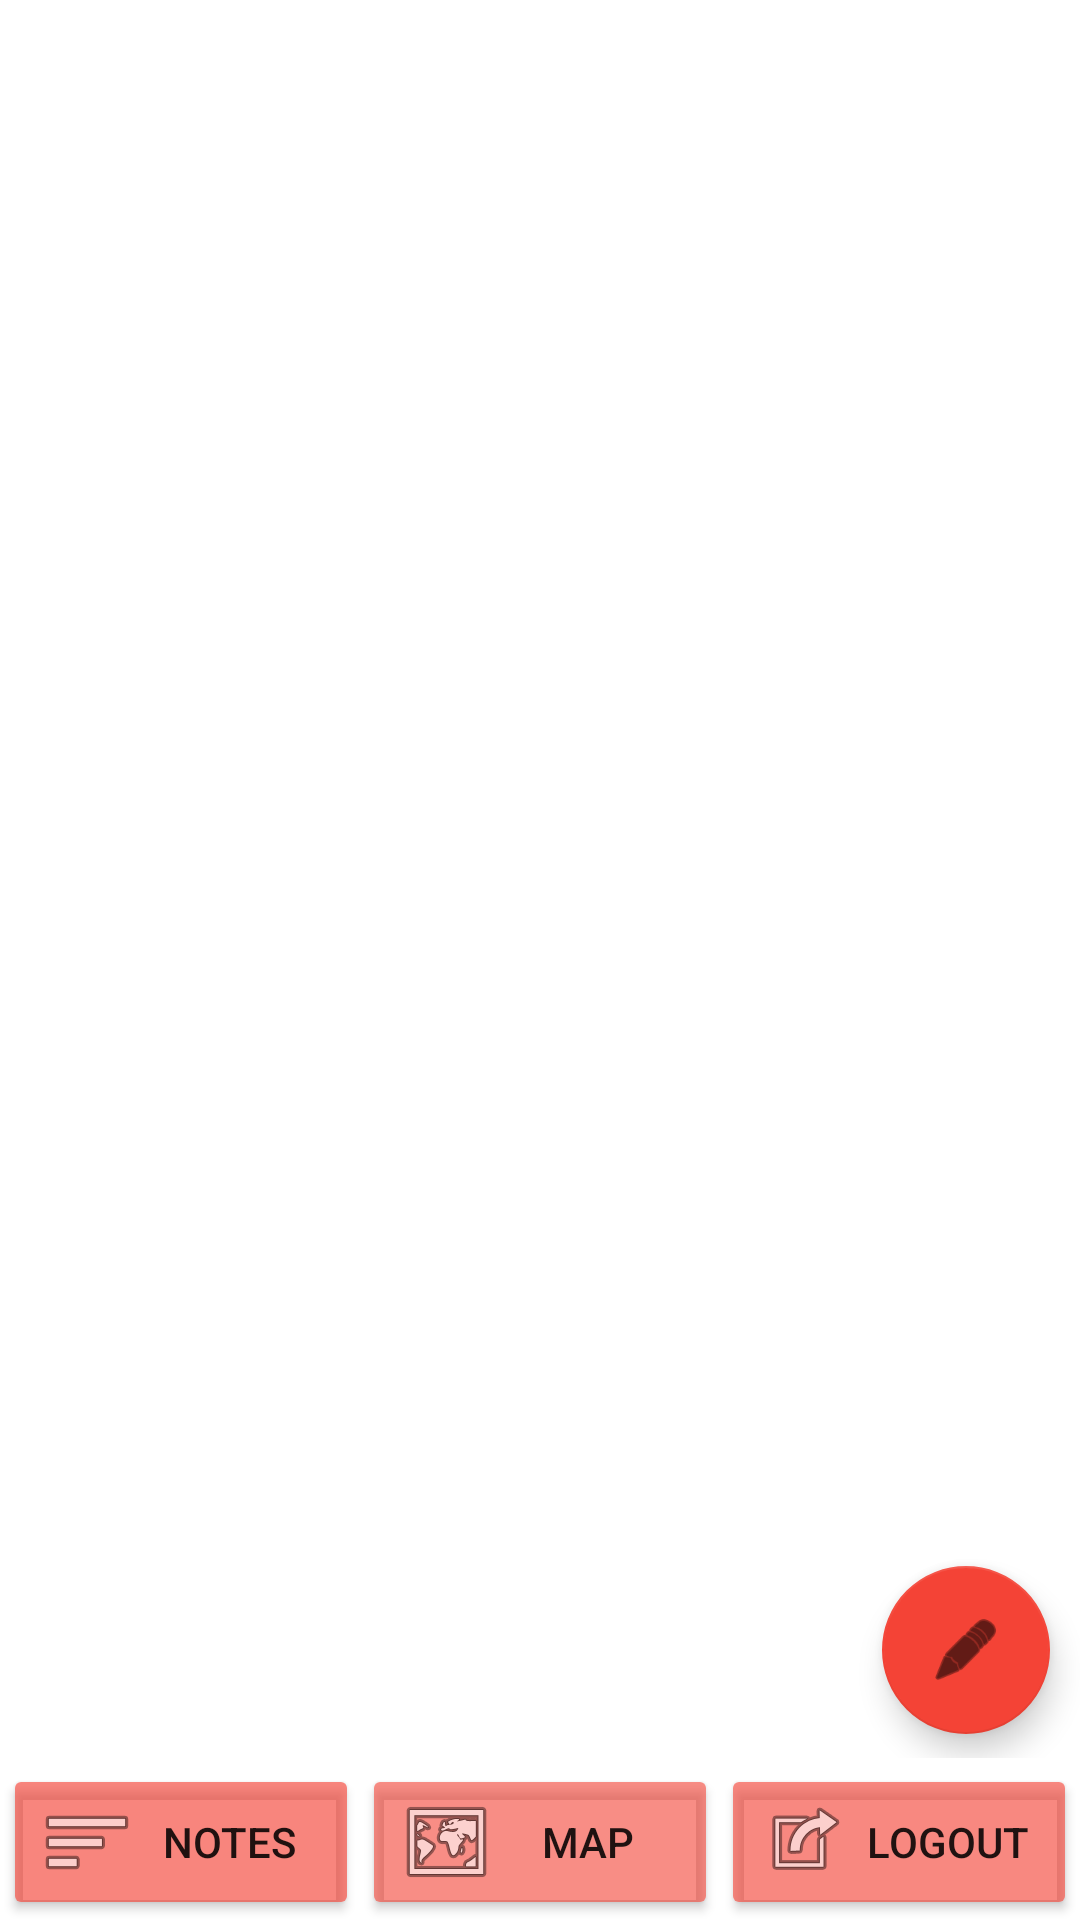

Icons on this 1080 × 1920 Android screen, each with its box as (x1, y1, x2, y2):
edit: (882, 1566, 1050, 1734)
